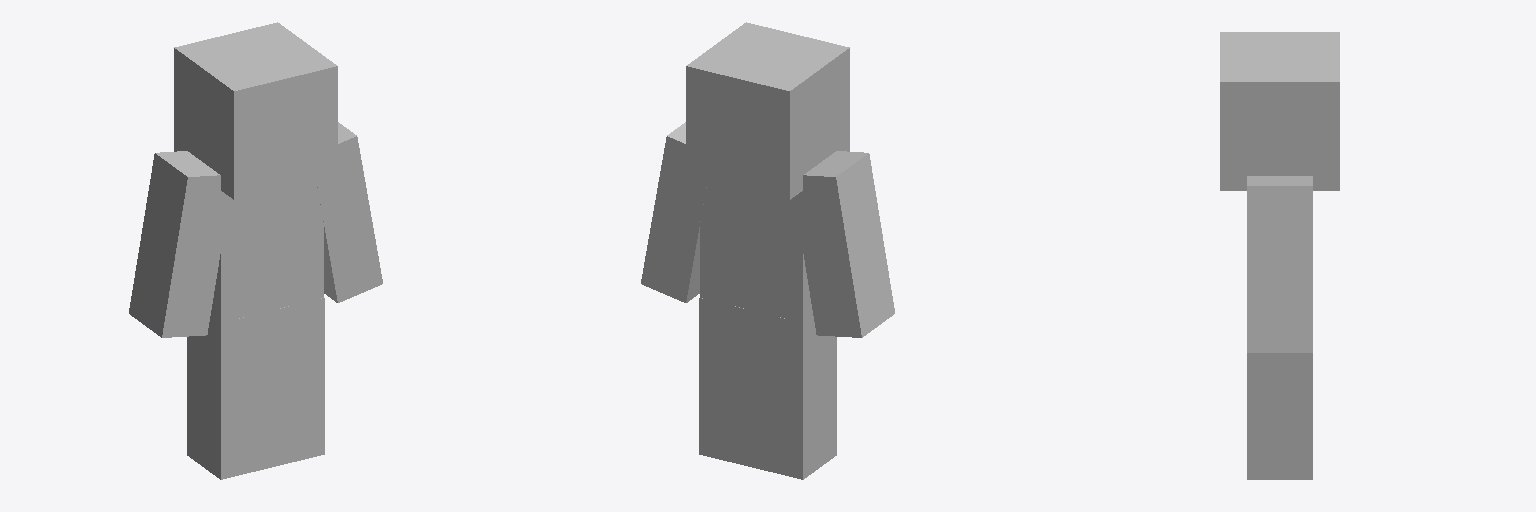
Rendered from slim.obj.
3 views of the same model, side by side, from view 1: azimuth 30°, elevation 25°; view 2: azimuth 150°, elevation 25°; view 3: azimuth 270°, elevation 25° (orthographic).
Visible parts, largest first — view 1: HeadOut, RArmOut, RLegOut, BodyOut, LLegOut, LArmOut; view 2: HeadOut, RArmOut, RLegOut, BodyOut, LLegOut, LArmOut; view 3: HeadOut, LArmOut, LLegOut.
Part boxes in pixels (left/top/right/bottom): HeadOut: left=174, top=22, right=337, bottom=199; RArmOut: left=129, top=151, right=229, bottom=337; RLegOut: left=187, top=312, right=277, bottom=479; BodyOut: left=211, top=180, right=323, bottom=322; LLegOut: left=267, top=298, right=324, bottom=466; LArmOut: left=316, top=122, right=382, bottom=302; HeadOut: left=686, top=22, right=849, bottom=199; RArmOut: left=794, top=151, right=894, bottom=337; RLegOut: left=746, top=309, right=836, bottom=479; BodyOut: left=700, top=180, right=812, bottom=322; LLegOut: left=699, top=298, right=756, bottom=466; LArmOut: left=641, top=122, right=707, bottom=302; HeadOut: left=1220, top=32, right=1339, bottom=190; LArmOut: left=1247, top=176, right=1312, bottom=352; LLegOut: left=1247, top=353, right=1312, bottom=479.
Size of the model in its own units: 115 by 198 by 54.